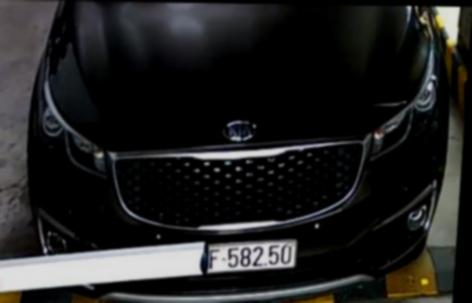License_Plate: (198, 219, 311, 278)
